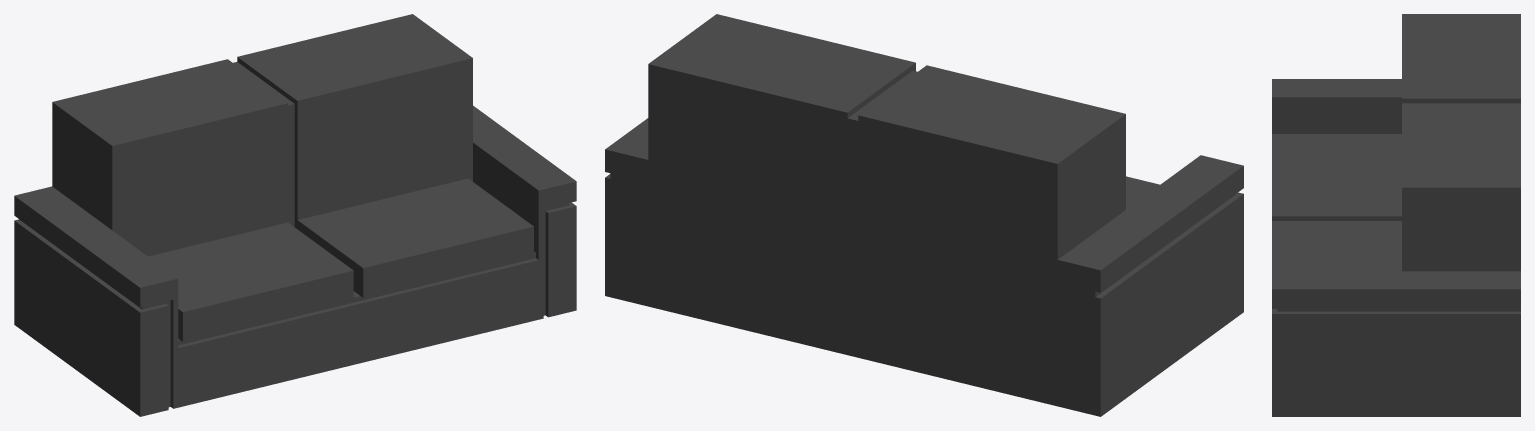
File: couch.obj
The picture shows the model from 3 angles, left to right: view 1: azimuth 30°, elevation 25°; view 2: azimuth 150°, elevation 25°; view 3: azimuth 270°, elevation 25°; orthographic projection. The views are drawn at different scales.
Bounding box in the file's own units: 92 × 43 × 46.
